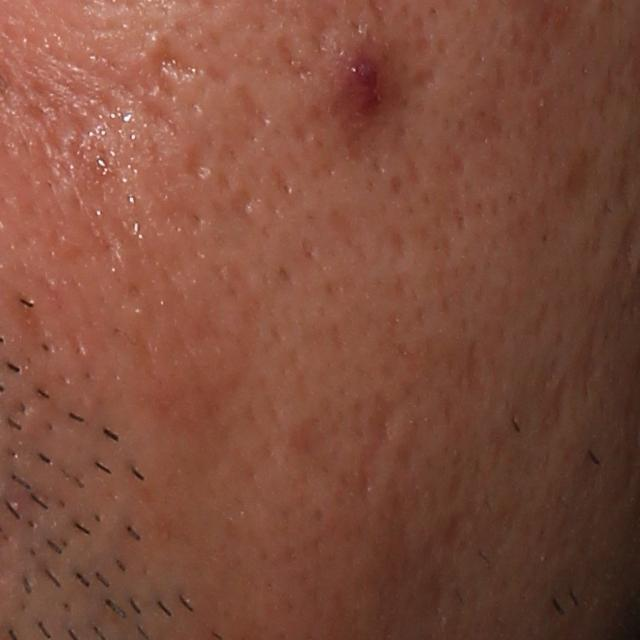atrophic_scar: (148, 39, 208, 104), (272, 31, 316, 88), (237, 79, 269, 130), (466, 343, 488, 407), (229, 186, 260, 230), (185, 137, 213, 181), (444, 512, 468, 550), (413, 67, 435, 91)
papule: (335, 47, 390, 117)
